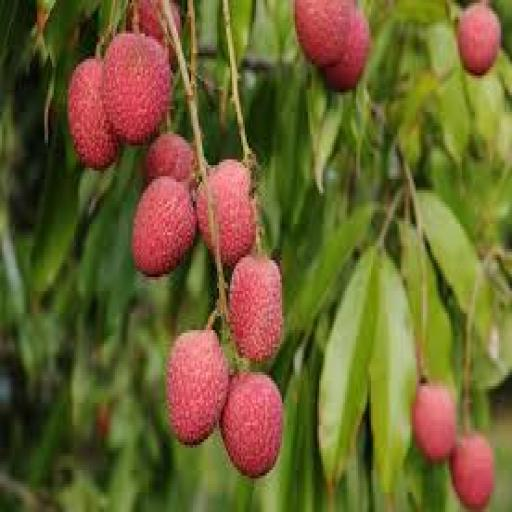lychee: (103, 34, 170, 142), (167, 331, 230, 444), (132, 177, 196, 276), (221, 373, 281, 478), (229, 255, 283, 360), (67, 59, 118, 170), (208, 160, 255, 265), (323, 6, 371, 92), (295, 0, 354, 67), (412, 384, 456, 461), (451, 434, 493, 509), (457, 3, 500, 75), (128, 0, 176, 64), (145, 135, 194, 184)
